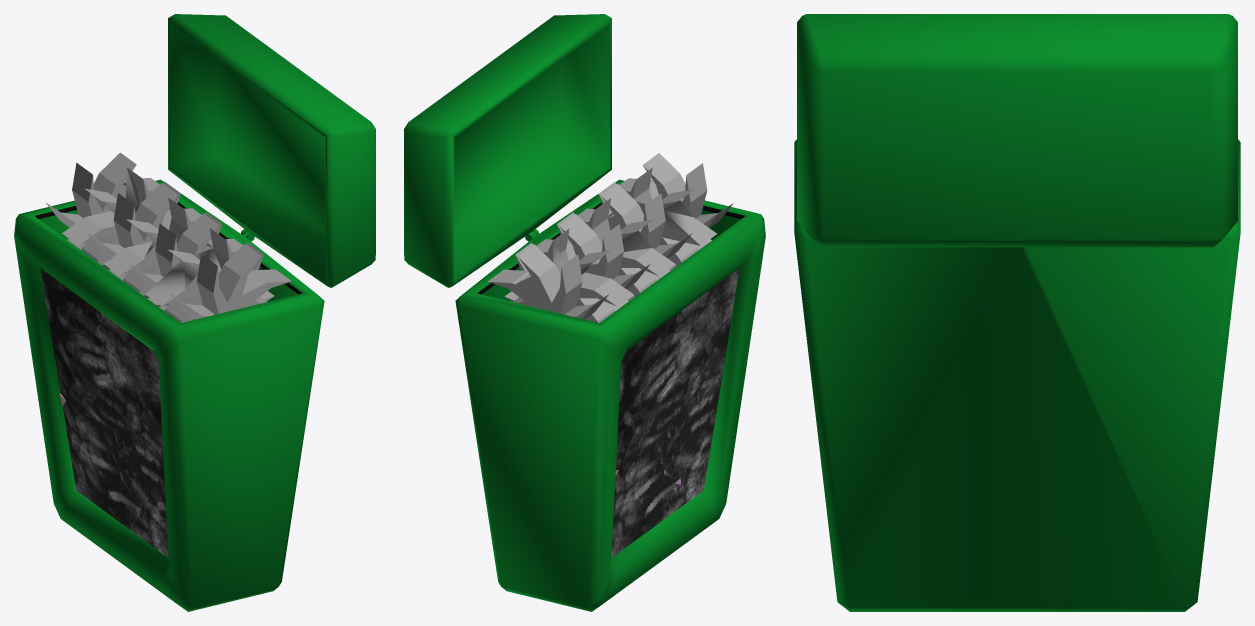
Rendered from item_shredder.glb.
3 renders of one model, left to right at view 1: azimuth 30°, elevation 25°; view 2: azimuth 150°, elevation 25°; view 3: azimuth 270°, elevation 25°, orthographic. The views are drawn at different scales.
Visible parts, largest first — view 1: ShredderBody_submesh_0, Lid, Glass, ShredGearRow, ShredGearRow2; view 2: ShredderBody_submesh_0, Lid, Glass, ShredGearRow, ShredGearRow2; view 3: ShredderBody_submesh_0, Lid.
Boxes of the visible parts, x1,y1,x2,y2 form: ShredderBody_submesh_0: (14,179,324,611); Lid: (168,14,375,287); Glass: (40,268,168,557); ShredGearRow: (45,152,291,319); ShredGearRow2: (62,167,274,322); ShredderBody_submesh_0: (455,179,765,611); Lid: (404,14,611,287); Glass: (611,268,739,557); ShredGearRow: (487,153,733,319); ShredGearRow2: (505,167,717,322); ShredderBody_submesh_0: (794,139,1240,611); Lid: (797,14,1237,247).
Size of what is drawn, in the model's own units: 0.2637 by 0.5481 by 0.3542.
5 materials, 1 textured.
